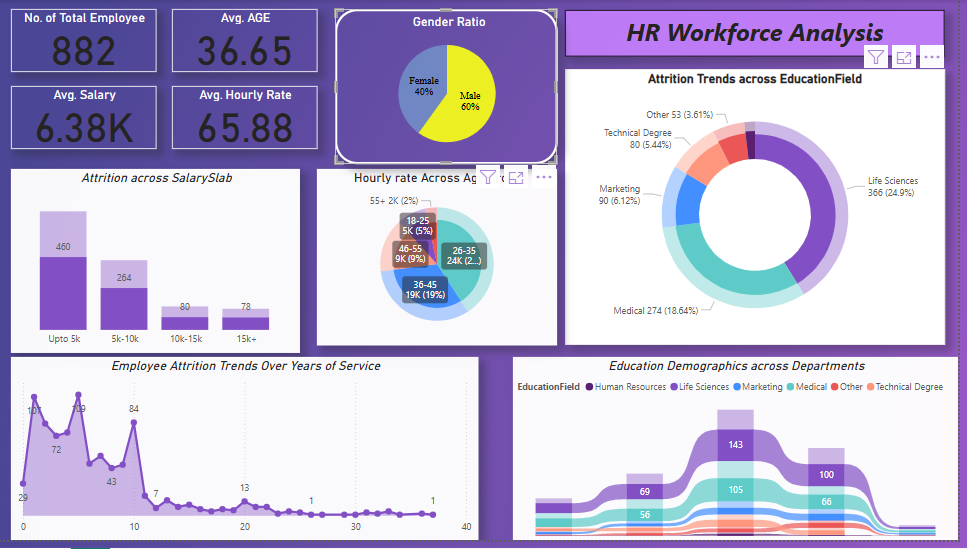

The page's visual inventory and layout, read from the dashboard file:
{"tool":"powerbi","page":{"name":"Page 1","canvas":[1280,720],"ordinal":0},"visuals":[{"type":"textbox","box":[756.5,14,506.4,62.1],"z":0},{"type":"card","title":"No. of Total Employee","fields":{"Values":["Sum(HR_Analytics.EmployeeCount)"]},"box":[17.1,12.4,194.2,83.9],"z":1000},{"type":"card","title":"Avg. AGE","fields":{"Values":["Avg(HR_Analytics.Age)"]},"box":[231.5,12.4,194.2,83.9],"z":2000},{"type":"card","title":"Avg. Salary","fields":{"Values":["Avg(HR_Analytics.MonthlyIncome)"]},"box":[17.1,115,194.2,83.9],"z":3000},{"type":"card","title":"Avg. Hourly Rate","fields":{"Values":["Avg(HR_Analytics.HourlyRate)"]},"box":[231.5,115,194.2,83.9],"z":4000},{"type":"pieChart","title":"Gender Ratio","fields":{"Category":["HR_Analytics.Gender"],"Y":["CountNonNull(HR_Analytics.Gender)"]},"box":[448.9,12.4,296.7,206.6],"z":5000},{"type":"donutChart","title":"Attrition Trends across EducationField","fields":{"Y":["CountNonNull(HR_Analytics.Attrition)"],"Category":["HR_Analytics.EducationField"]},"box":[756,92,506.7,368],"z":6000},{"type":"columnChart","title":" Attrition across SalarySlab","fields":{"Category":["HR_Analytics.SalarySlab"],"Y":["CountNonNull(HR_Analytics.Attrition)"]},"box":[17.1,225.2,385.2,245.4],"z":7000},{"type":"ribbonChart","title":"Education Demographics across Departments","fields":{"Category":["HR_Analytics.Education"],"Y":["CountNonNull(HR_Analytics.Department)"],"Series":["HR_Analytics.EducationField"]},"box":[686.6,475.3,593.4,245.4],"z":8000},{"type":"areaChart","title":"Employee Attrition Trends Over Years of Service","fields":{"Y":["CountNonNull(HR_Analytics.Attrition)"],"Category":["HR_Analytics.YearsAtCompany"]},"box":[17.1,475.3,622.9,245.4],"z":9000},{"type":"pieChart","title":"Hourly rate Across Age Group ","fields":{"Category":["HR_Analytics.AgeGroup"],"Y":["Sum(HR_Analytics.HourlyRate)"]},"box":[425.6,225.2,320,234.6],"z":10000}]}

Visuals, with their boxes in screenshot pixels (x1, y1, x2, y2), scaled from the page's 1280x720 canvas onto the 967x549 screenshot:
textbox: {"x1": 572, "y1": 11, "x2": 954, "y2": 58}
"No. of Total Employee" card: {"x1": 13, "y1": 9, "x2": 160, "y2": 73}
"Avg. AGE" card: {"x1": 175, "y1": 9, "x2": 322, "y2": 73}
"Avg. Salary" card: {"x1": 13, "y1": 88, "x2": 160, "y2": 152}
"Avg. Hourly Rate" card: {"x1": 175, "y1": 88, "x2": 322, "y2": 152}
"Gender Ratio" pieChart: {"x1": 339, "y1": 9, "x2": 563, "y2": 167}
"Attrition Trends across EducationField" donutChart: {"x1": 571, "y1": 70, "x2": 954, "y2": 351}
" Attrition across SalarySlab" columnChart: {"x1": 13, "y1": 172, "x2": 304, "y2": 359}
"Education Demographics across Departments" ribbonChart: {"x1": 519, "y1": 362, "x2": 966, "y2": 548}
"Employee Attrition Trends Over Years of Service" areaChart: {"x1": 13, "y1": 362, "x2": 484, "y2": 548}
"Hourly rate Across Age Group " pieChart: {"x1": 322, "y1": 172, "x2": 563, "y2": 351}
